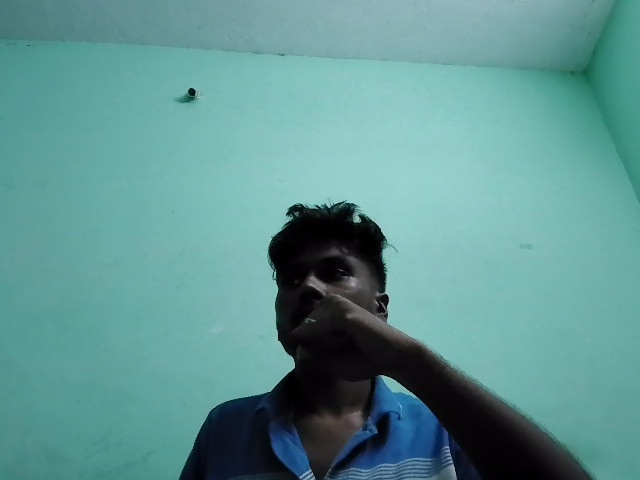Yes: (265, 282, 437, 392)
